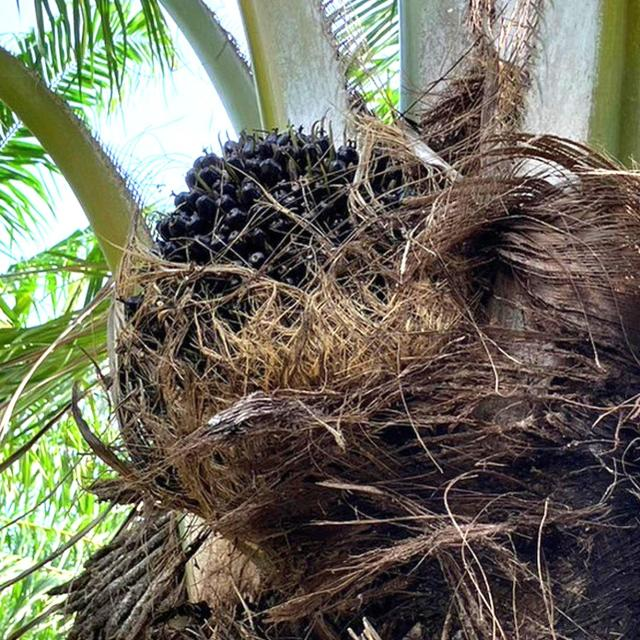unripe: (169, 127, 406, 349)
